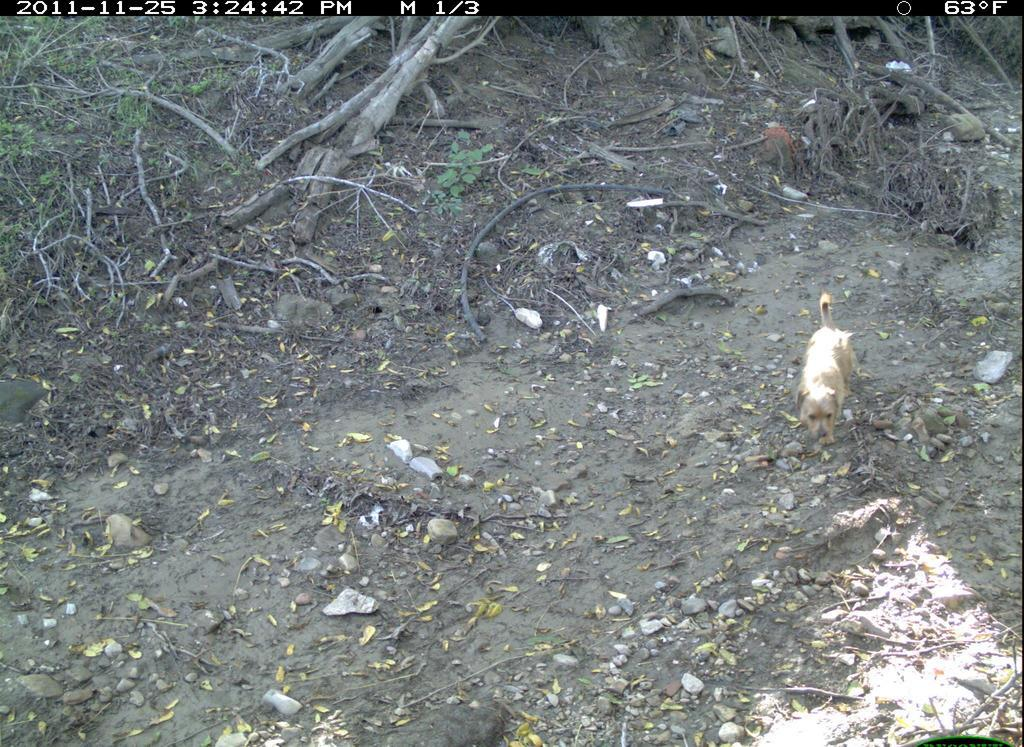dog: (792, 289, 861, 464)
